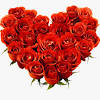rose: (24, 34, 75, 86), (50, 9, 100, 55), (1, 9, 45, 54)
